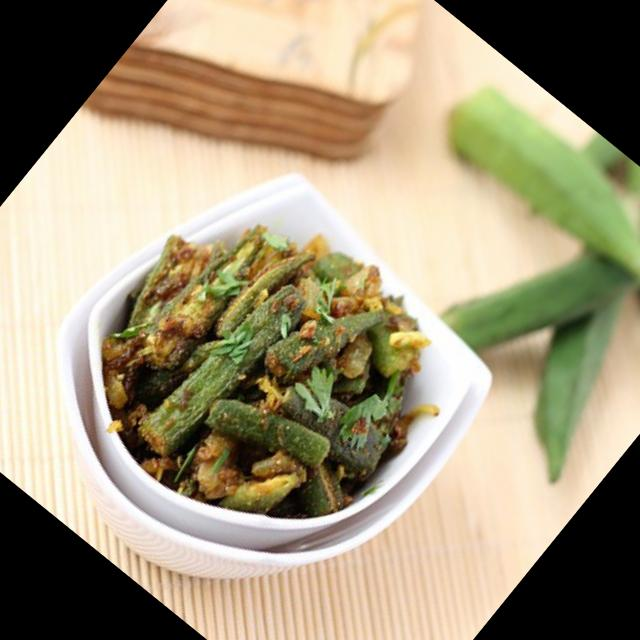BhindiMasala: (45, 153, 486, 592)
